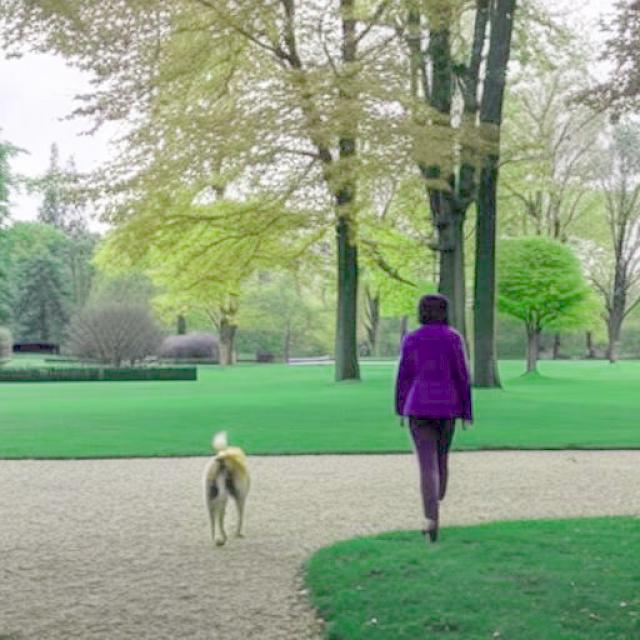Unleashed_Dog: (203, 382, 460, 547)
